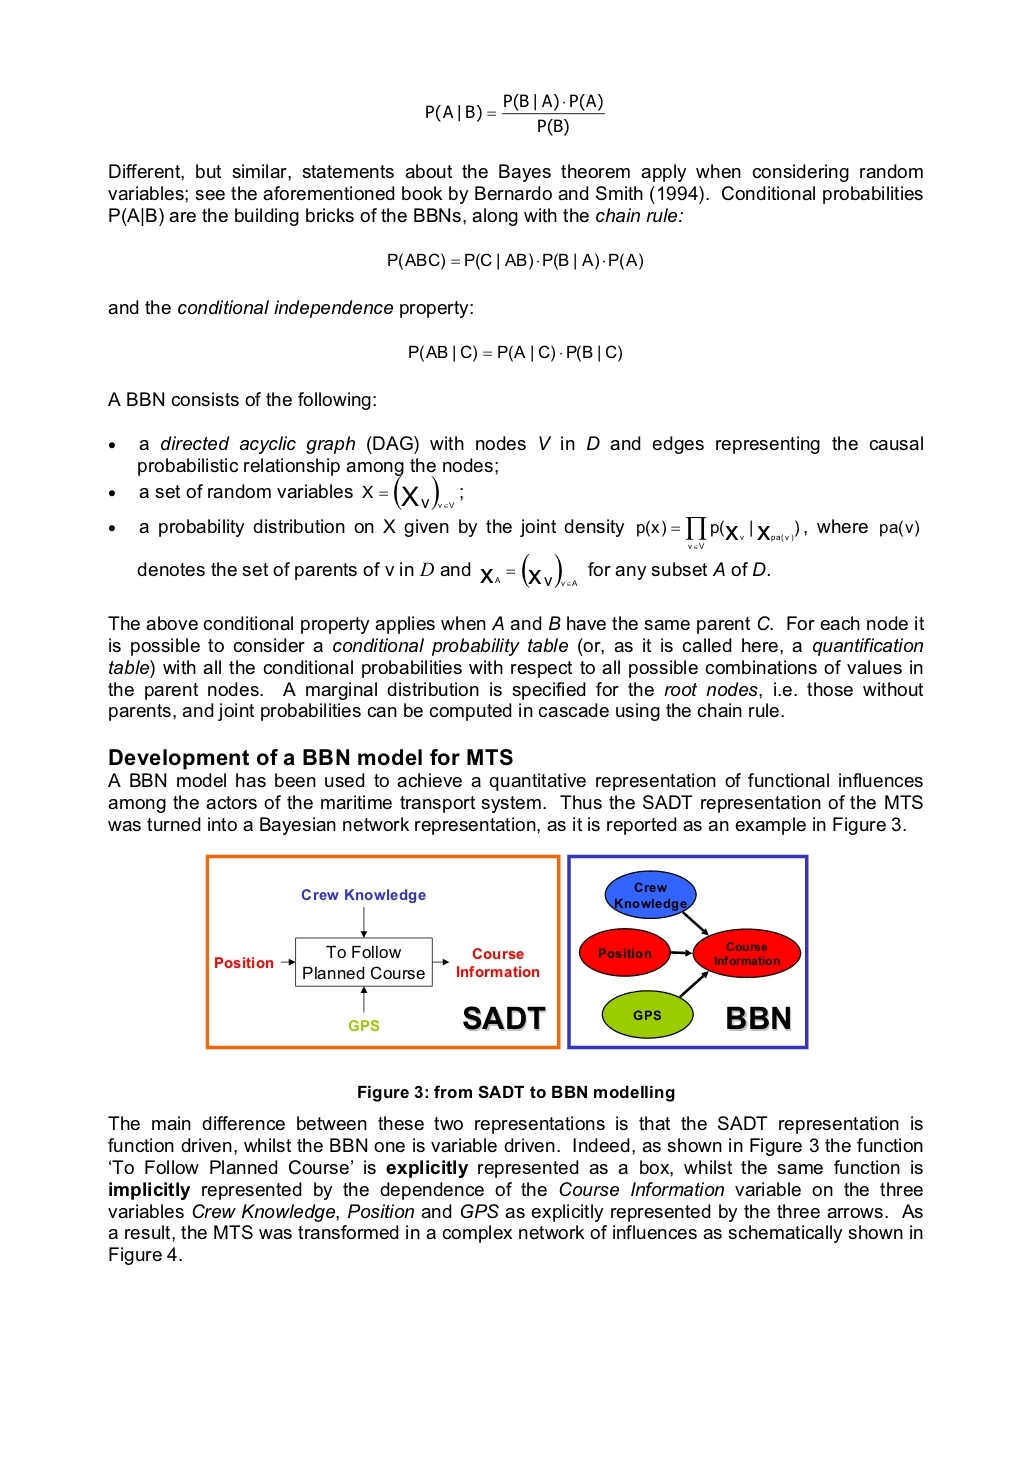figure: (203, 850, 563, 1050), (565, 850, 808, 1050)
formula: (426, 91, 604, 136), (388, 253, 642, 269), (409, 345, 622, 361)
